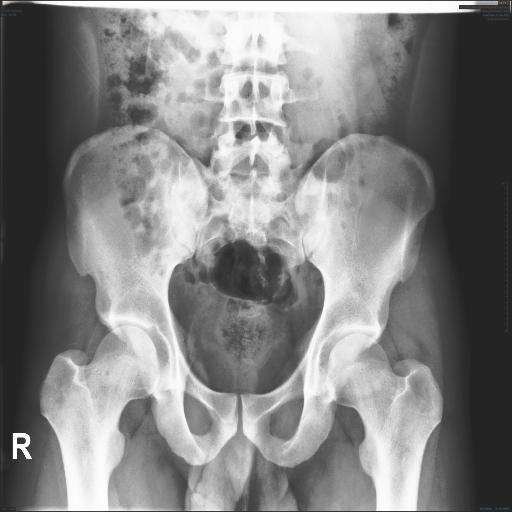normal: (39, 326, 160, 511), (325, 333, 443, 512)
